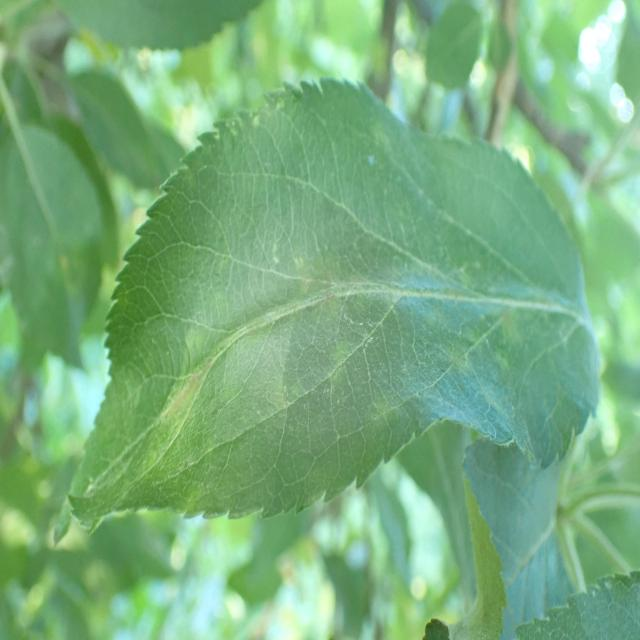healthy: (60, 79, 602, 508)
